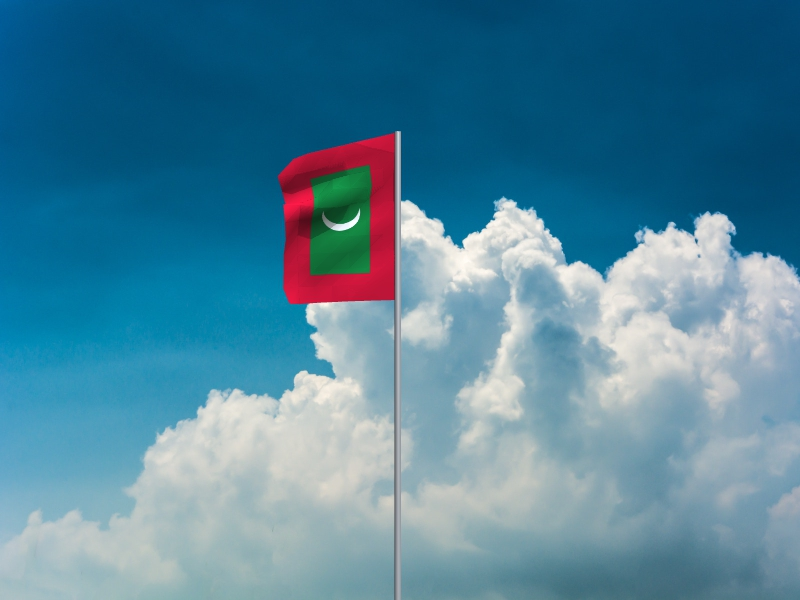mv: (278, 134, 395, 304)
